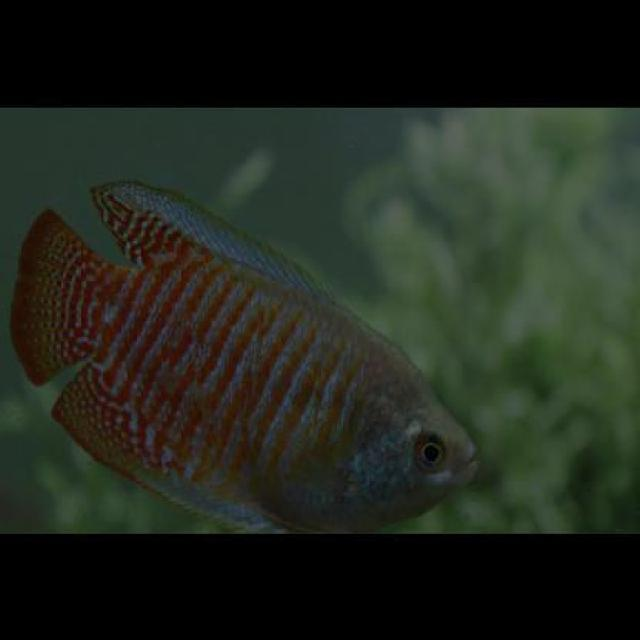Gourami: (7, 174, 476, 531)
